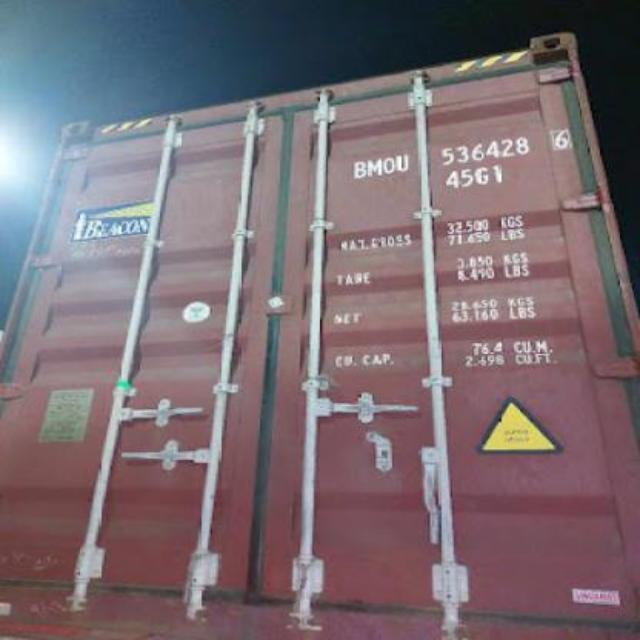2: (500, 138, 516, 158)
3: (456, 146, 469, 164)
4: (486, 139, 502, 159)
5: (438, 147, 456, 167)
6: (470, 144, 486, 162), (554, 130, 568, 148)
8: (514, 138, 532, 156)
B: (352, 158, 366, 180)
M: (366, 156, 384, 177)
O: (382, 157, 396, 175)
U: (396, 154, 409, 172)
